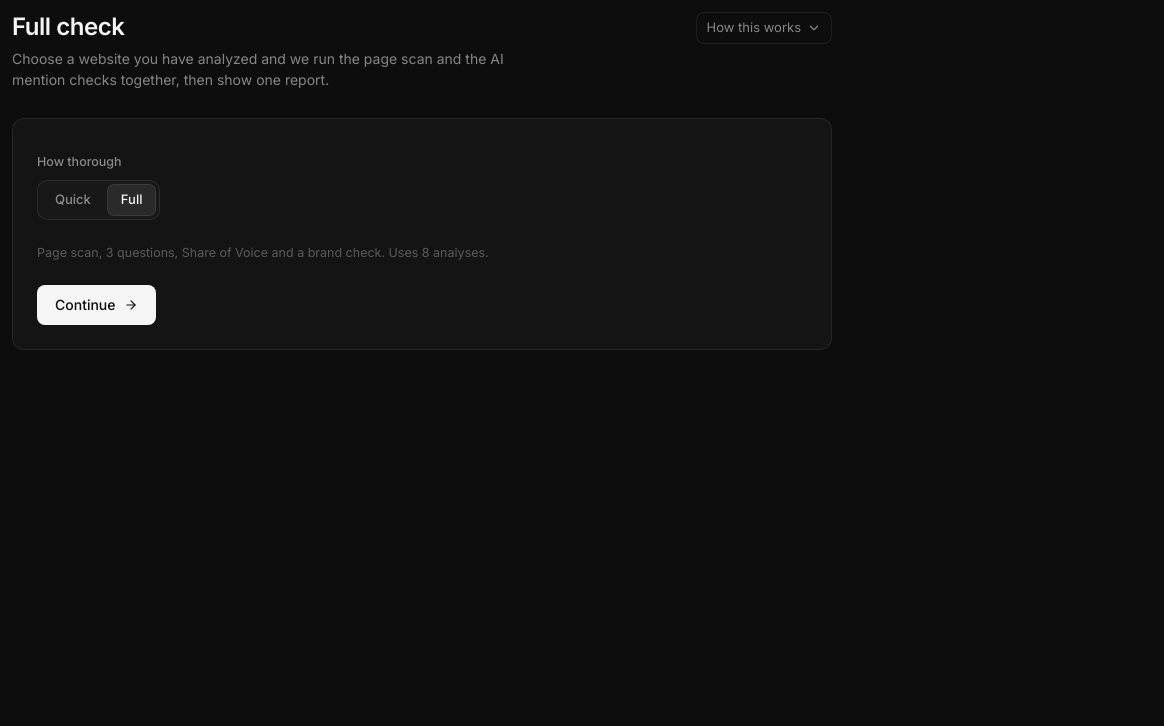
Test: Full check flow › finds questions, runs the full check and shows the report with its total cost
The width and height of the screenshot is (1164, 726).
Step 1. Click the button "Continue" → x=96, y=304, box [37, 284, 156, 324]
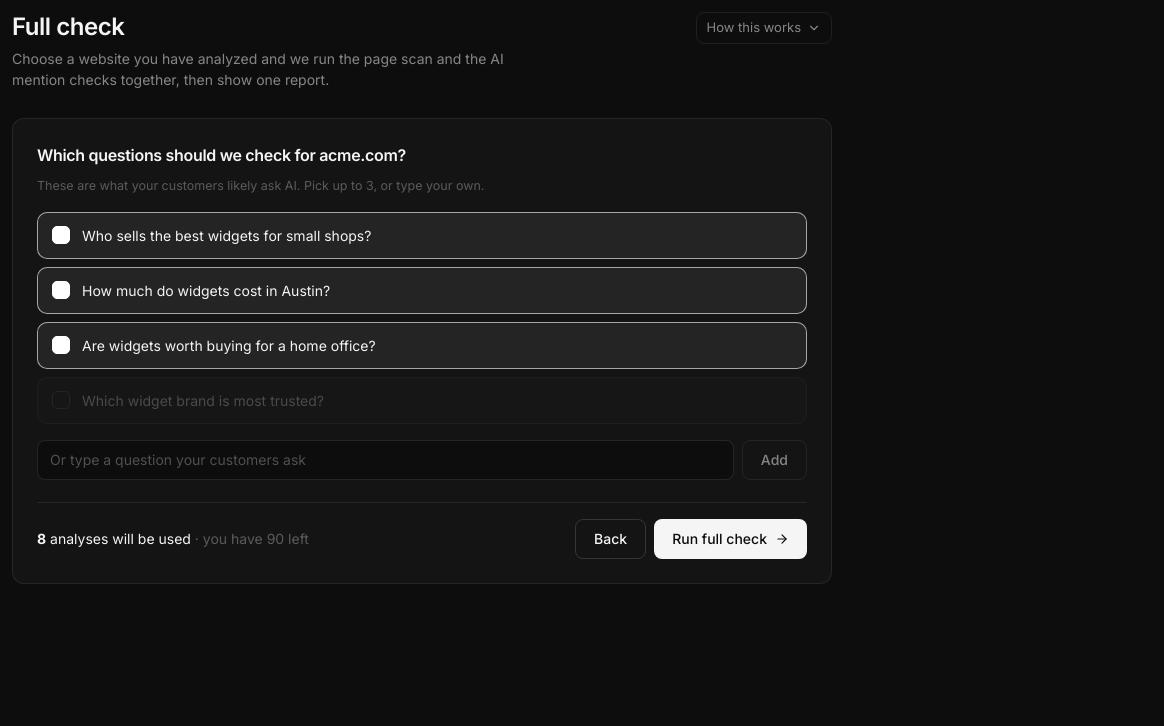
Result: the button "Who sells the best widgets for small shops?" is shown at [37, 212, 807, 259]
Step 2. Click the button "Run full check" → x=731, y=539, box [654, 519, 807, 559]
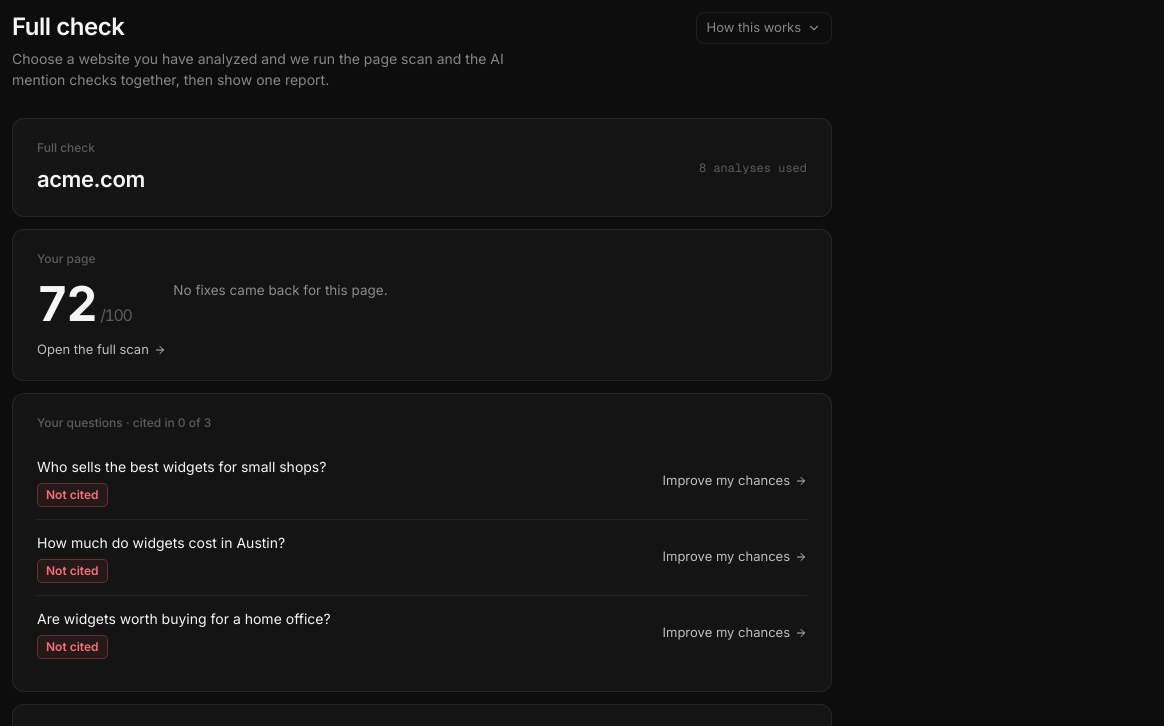
Result: the heading "acme.com" is shown at [37, 163, 145, 196]
Result: the text "8 analyses used" is shown at [699, 158, 807, 176]
